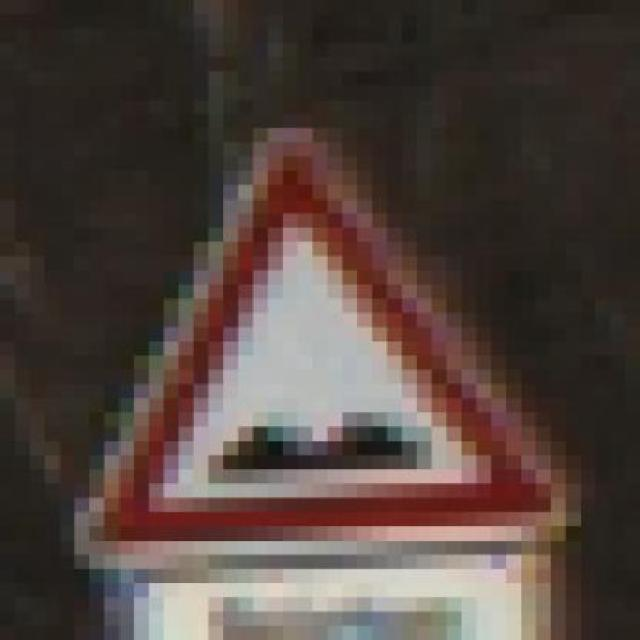Uneven Road: (74, 113, 580, 555)
